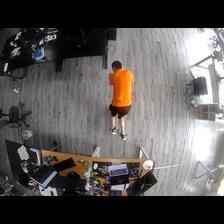fall: (108, 59, 134, 140)
